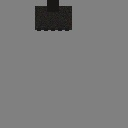personnel: (35, 6, 72, 30)
